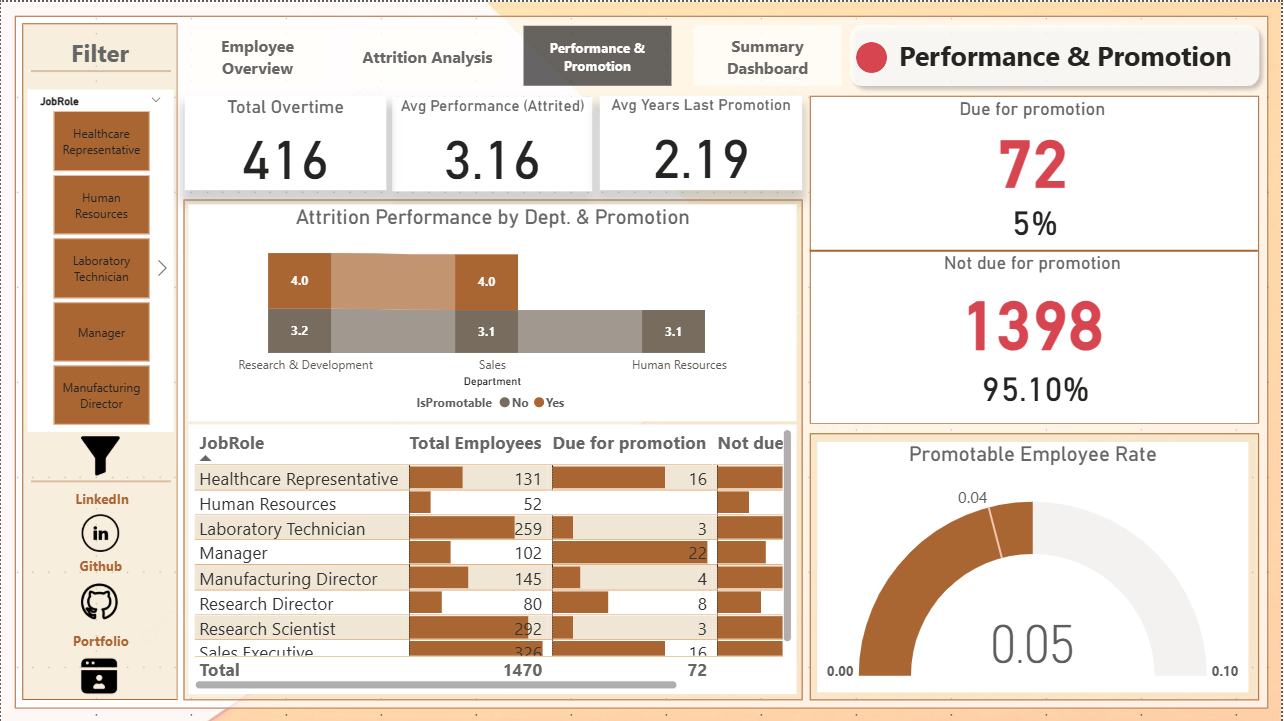

The page's visual inventory and layout, read from the dashboard file:
{"tool":"powerbi","page":{"name":"Performance & Promotion","canvas":[1280,720],"ordinal":2},"visuals":[{"type":"shape","box":[13.9,13.9,1253.6,692.9],"z":0},{"type":"shape","box":[21.1,21.1,155.5,676.7],"z":1000},{"type":"shape","box":[30.2,61.6,140.1,15.7],"z":2000},{"type":"shape","box":[840.3,13.9,427.1,79.3],"z":3000},{"type":"shape","box":[808.3,431.3,449.4,267.1],"z":4000},{"type":"shape","box":[182.3,197.6,619.1,500.9],"z":5000},{"type":"shape","box":[854.6,39.8,31.1,31.1],"z":6000},{"type":"shape","box":[808.3,93.2,449.4,328.3],"z":7000},{"type":"card","title":"Avg Performance (Attrited)","fields":{"Values":["Measure.Avg Performance (Attrited)"]},"box":[391.8,94.5,200.3,94.5],"z":8000},{"type":"card","fields":{"Values":["Measure.Promotable %"]},"box":[972.5,187.8,122.4,61.2],"z":9000},{"type":"card","title":"Not due for promotion","fields":{"Values":["Measure.Not Due"]},"box":[815.3,250.4,432.7,108.5],"z":10000},{"type":"card","title":"Total Overtime ","fields":{"Values":["Measure.Total Overtime Employees"]},"box":[183.7,93.2,201.7,94.6],"z":11000},{"type":"gauge","title":"Promotable Employee Rate","fields":{"TargetValue":["Measure.Overall Promotable Rate"],"Y":["Measure.Promotable Rate"]},"box":[816.7,439.7,431.3,250.4],"z":12000},{"type":"card","title":"Avg Years Last Promotion","fields":{"Values":["Measure.Avg Years Since Last Promotion"]},"box":[598.3,93.3,202.8,94.5],"z":13000},{"type":"ribbonChart","title":"Attrition Performance by Dept. & Promotion","fields":{"Series":["HR Analytics Data.IsPromotable"],"Category":["HR Analytics Data.Department"],"Y":["Measure.Avg Performance (Attrited)"]},"box":[187.8,202.8,608.3,216.4],"z":14000},{"type":"textbox","box":[868.2,30.6,391,62.6],"z":15000},{"type":"pageNavigator","box":[182.9,23.6,658.1,61],"z":16000},{"type":"card","title":"Due for promotion","fields":{"Values":["Measure.Total Promotable"]},"box":[815.3,96,432.7,94.6],"z":17000},{"type":"shape","box":[808.3,242.1,448,12.5],"z":18000},{"type":"card","fields":{"Values":["Measure.% Not due for promotion"]},"box":[962.8,359.5,144.3,49.8],"z":19000},{"type":"tableEx","fields":{"Values":["HR Analytics Data.JobRole","Measure.Total Employees","Measure.Total Promotable","Measure.Not Due"]},"box":[187.8,422.9,608.3,269.9],"z":20000},{"type":"textbox","box":[33.6,29.9,130.6,51],"z":21000},{"type":"slicer","fields":{"Values":["HR Analytics Data.JobRole"]},"box":[26.2,87.5,146.2,342.5],"z":22000},{"type":"image","box":[75,426.2,48.8,55],"z":23000},{"type":"textbox","box":[56.2,482.5,90,30],"z":24000},{"type":"textbox","box":[55,550,90,30],"z":25000},{"type":"textbox","box":[55,625,90,30],"z":26000},{"type":"shape","box":[30,471.2,140,16.2],"z":27000},{"type":"image","box":[75,507.5,48.8,47.5],"z":28000},{"type":"image","box":[68.8,576.2,58.8,46.2],"z":29000},{"type":"image","box":[75,650,46.2,48.8],"z":30000}]}

Visuals, with their boxes in screenshot pixels (x1, y1, x2, y2), scaled from the page's 1280x720 canvas onto the 1284x721 screenshot:
shape: 14, 14, 1271, 708
shape: 21, 21, 177, 699
shape: 30, 62, 171, 77
shape: 843, 14, 1271, 93
shape: 811, 432, 1262, 699
shape: 183, 198, 804, 699
shape: 857, 40, 888, 71
shape: 811, 93, 1262, 422
"Avg Performance (Attrited)" card: 393, 95, 594, 189
card - Measure.Promotable %: 976, 188, 1098, 249
"Not due for promotion" card: 818, 251, 1252, 359
"Total Overtime " card: 184, 93, 387, 188
"Promotable Employee Rate" gauge: 819, 440, 1252, 691
"Avg Years Last Promotion" card: 600, 93, 804, 188
"Attrition Performance by Dept. & Promotion" ribbonChart: 188, 203, 799, 420
textbox: 871, 31, 1263, 93
pageNavigator: 183, 24, 844, 85
"Due for promotion" card: 818, 96, 1252, 191
shape: 811, 242, 1260, 255
card - Measure.% Not due for promotion: 966, 360, 1111, 410
tableEx - HR Analytics Data.JobRole x Measure.Total Employees: 188, 423, 799, 694
textbox: 34, 30, 165, 81
slicer - HR Analytics Data.JobRole: 26, 88, 173, 431
image: 75, 427, 124, 482
textbox: 56, 483, 147, 513
textbox: 55, 551, 145, 581
textbox: 55, 626, 145, 656
shape: 30, 472, 171, 488
image: 75, 508, 124, 556
image: 69, 577, 128, 623
image: 75, 651, 122, 700
